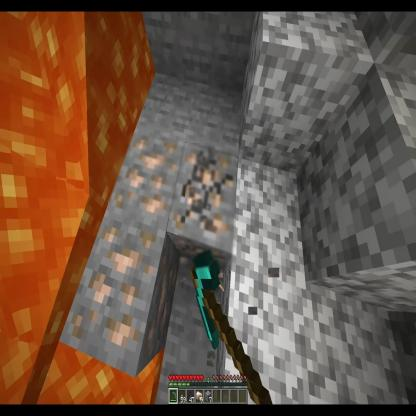iron ore: (59, 217, 178, 368), (167, 144, 236, 272), (108, 133, 185, 230)
